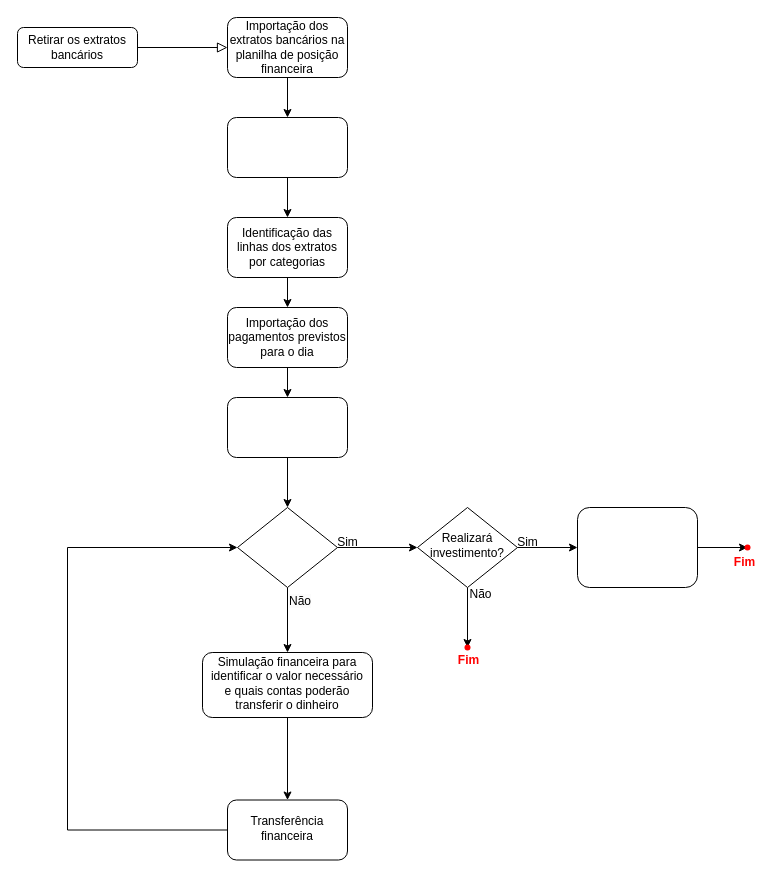
The diagram is 782 pixels wide and 878 high, and some of its shapes have lost their labels. Each missing label, with the centre of its shape:
"Análise do saldo financeiro por conta" belongs at point (287, 427).
"Aplicação financeira e/ou transferência para conta investimento" belongs at point (637, 547).
"Conciliação dos extratos para uma mesma formatação" belongs at point (287, 147).
"S aldo financeiro?" belongs at point (287, 547).
